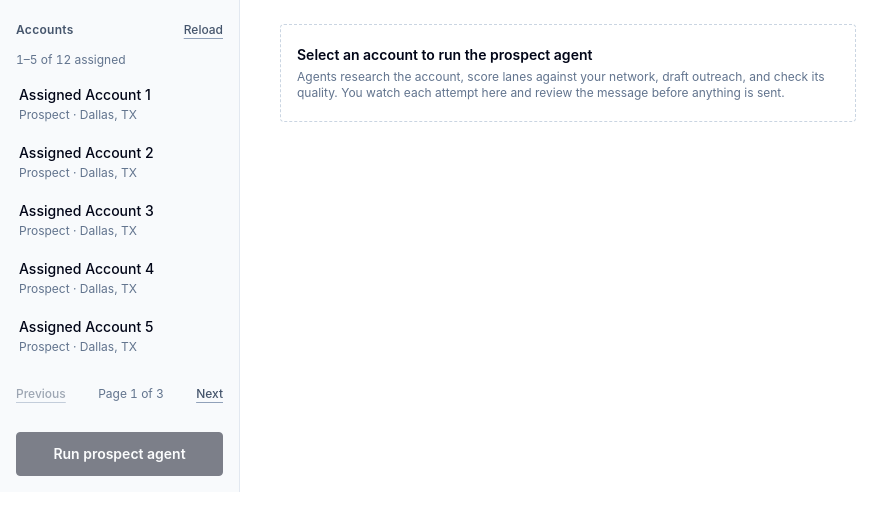
Test: ProspectWorkspace account selection and progress › clamps a removed third page to the last remaining multi-account page
Expected: the button "Assigned Account 1 Prospect · Dallas, TX" is shown, [8,76,231,132]
Step 1. Click the button "Next" → x=210, y=394, box [196,372,223,416]
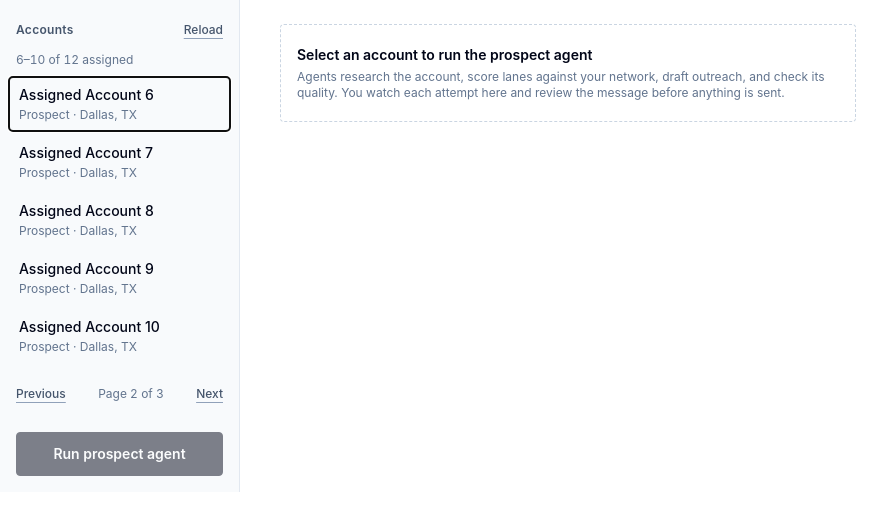
Step 2. Click the button "Next" → x=210, y=394, box [196,372,223,416]
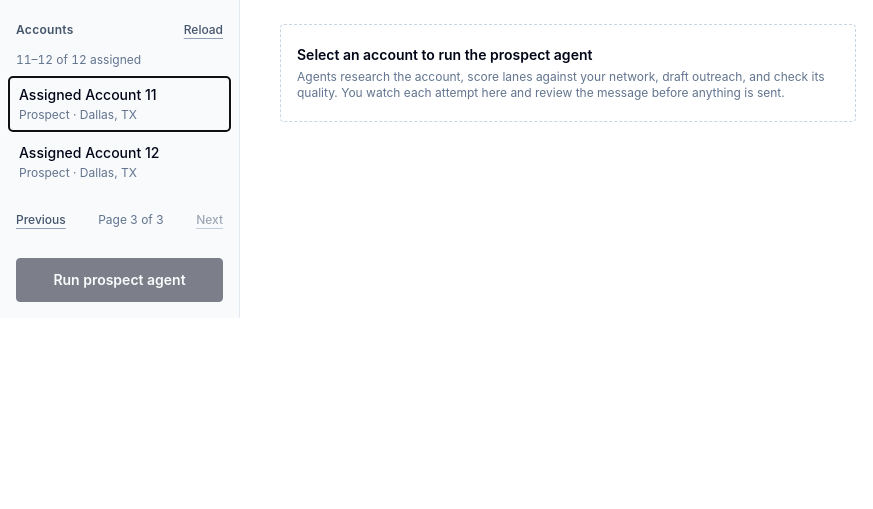
Step 3. Click the button "Assigned Account 12 Prospect · Dallas, TX" → x=120, y=162, box [8,134,231,190]
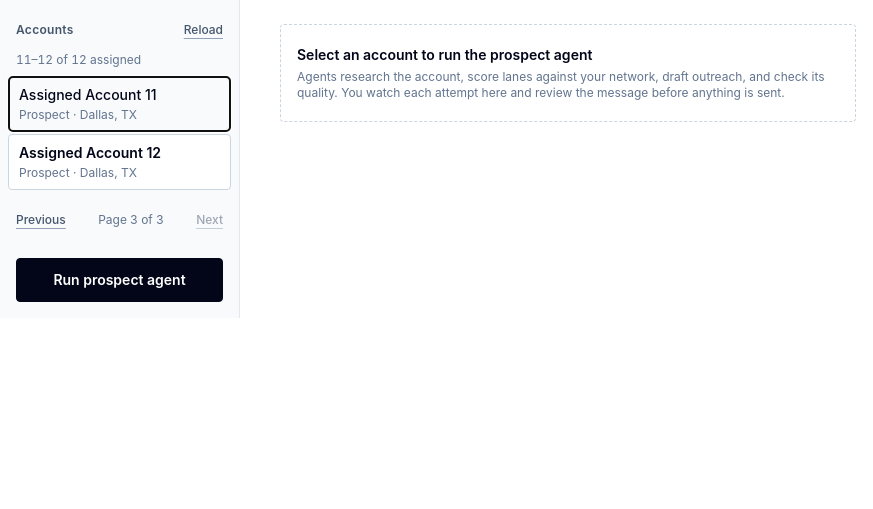
Step 4. Click the button with aria-label "Reload accounts" → x=203, y=30, box [184,8,223,52]
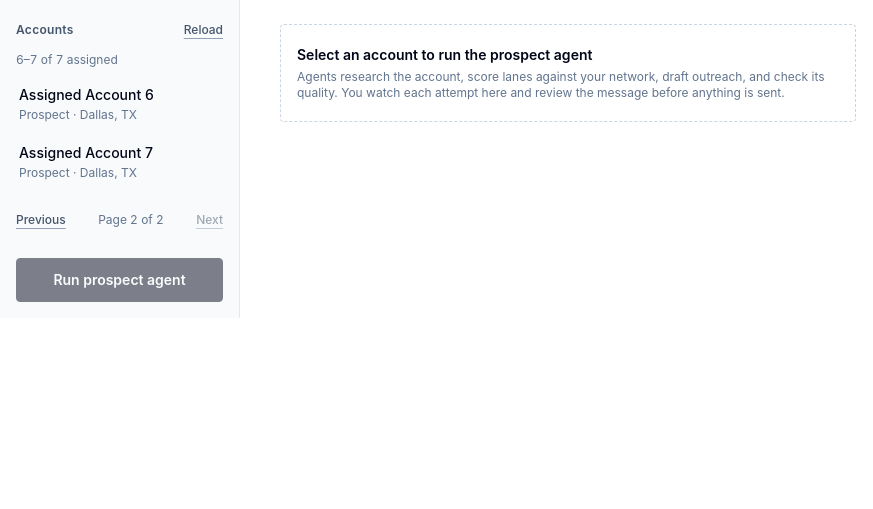
Expected: the text "Page 2 of 2" is shown, [98,212,164,228]
Expected: the text "6–7 of 7 assigned" is shown, [16,52,118,67]
Expected: the button "Run prospect agent" is disabled, [16,258,223,302]
